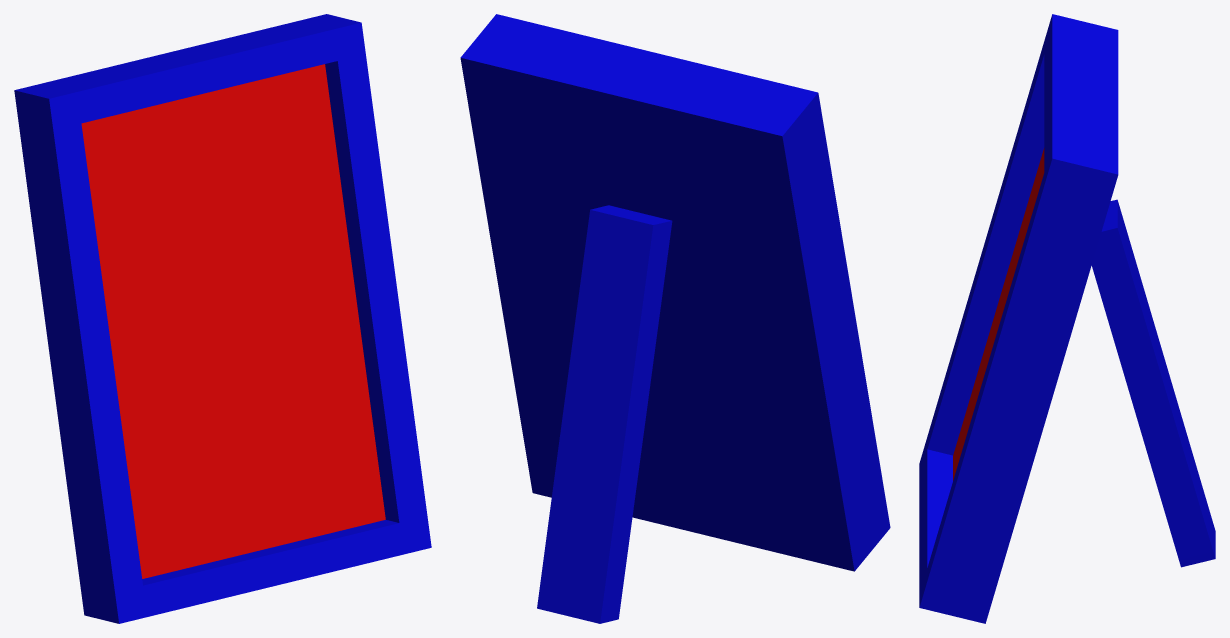
Rendered from PhotoFrame.fbx.
3 views of the same model, side by side, from view 1: azimuth 30°, elevation 25°; view 2: azimuth 150°, elevation 25°; view 3: azimuth 270°, elevation 25° (orthographic). The views are drawn at different scales.
Visible parts, largest first — view 1: pCube3; view 2: pCube3; view 3: pCube3.
Part boxes in pixels (box(x1,y1,x2,y2)): pCube3: box(14, 14, 431, 623); pCube3: box(460, 14, 890, 623); pCube3: box(919, 14, 1215, 623).
Bounding box in the file's own units: 17.32 × 26.07 × 14.98.
